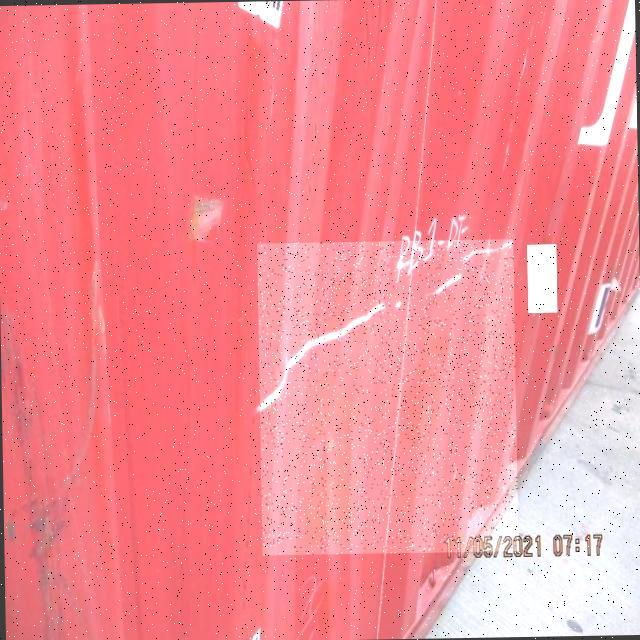Dent: (257, 240, 518, 556)
